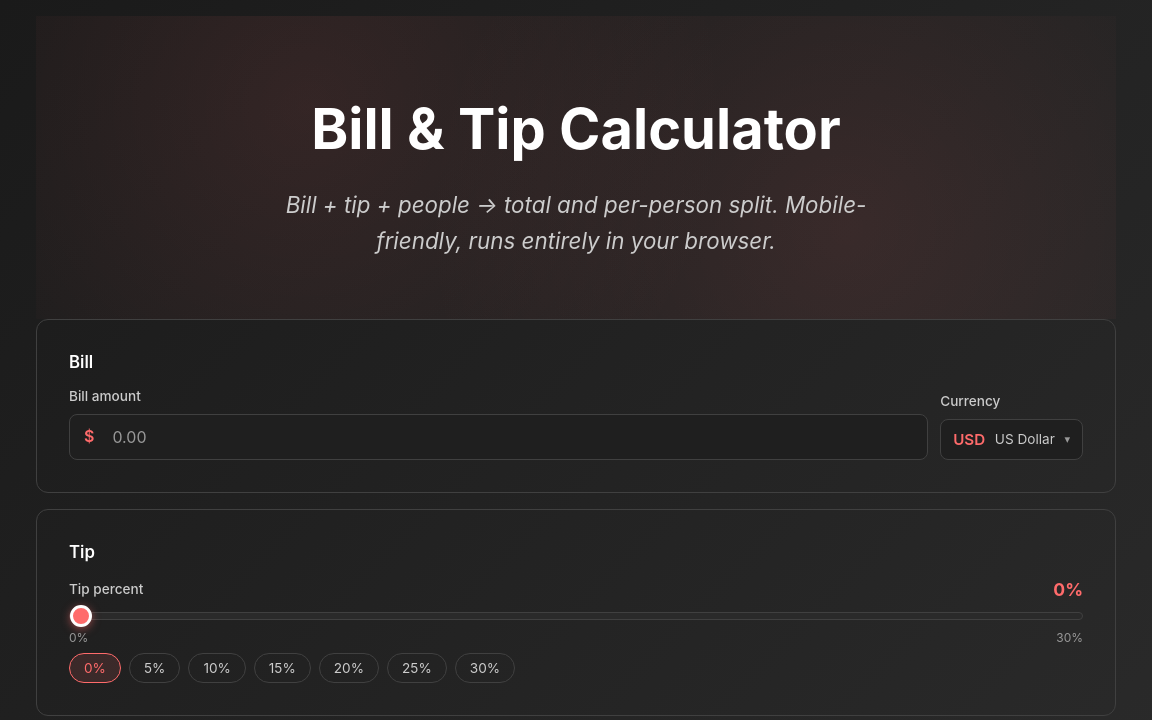
Test case: <TipCalculator /> — page render › preset chip 25% updates the slider value and recomputes
This screenshot has width=1152, height=720.
Type "100" into the number field labelled "Bill amount". click: (513, 437)
box: left=98, top=415, right=927, bottom=459
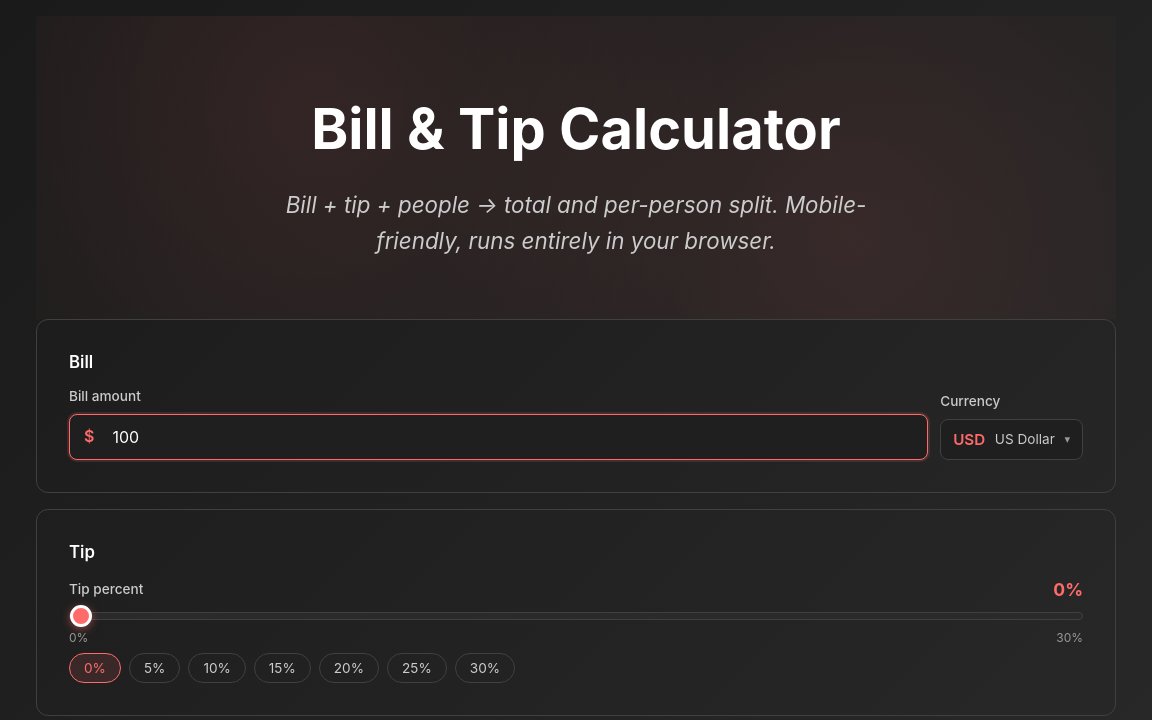
Click the button "25%". click: (417, 668)
box: left=387, top=653, right=447, bottom=683
(page scrolled)
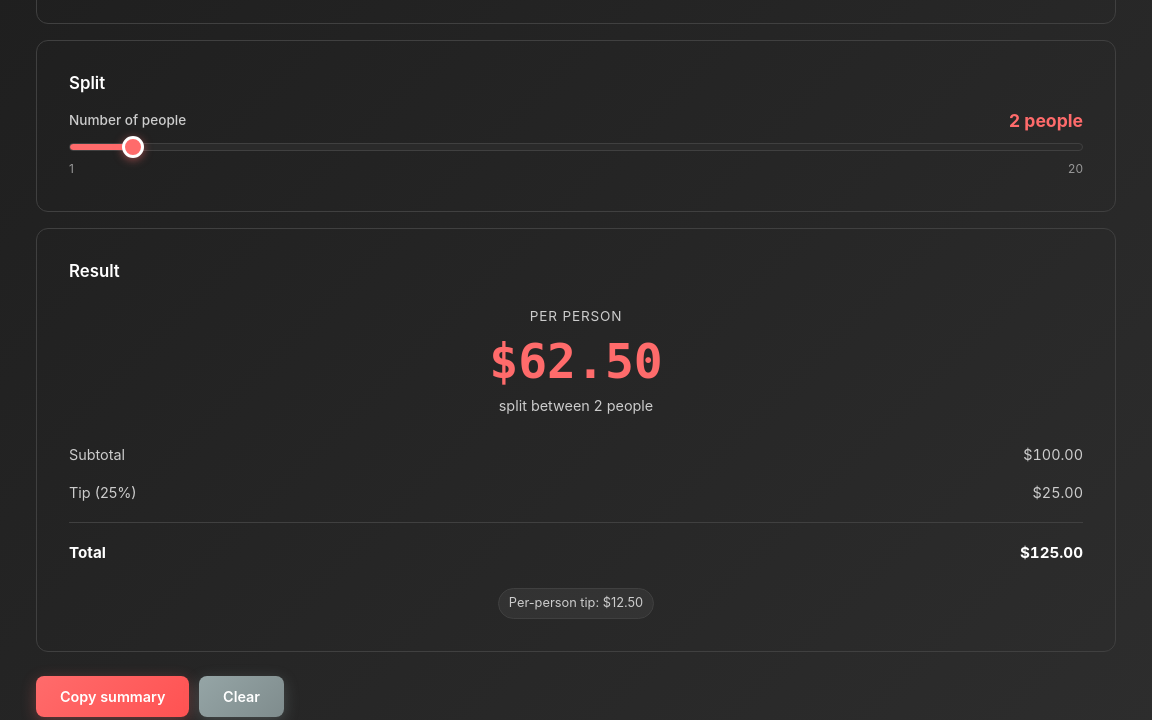
Result: the text "$62.50" is shown at left=489, top=332, right=663, bottom=388
